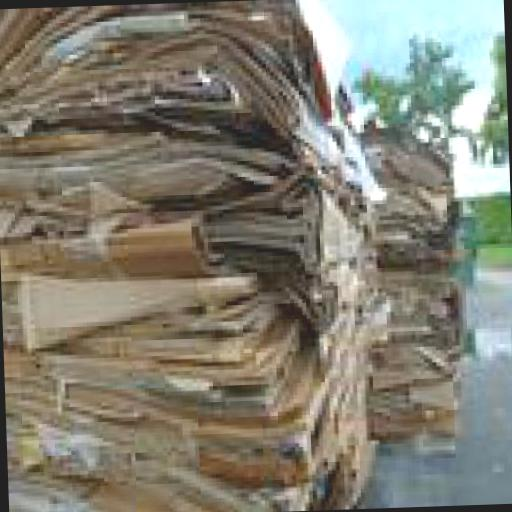cardboard: (0, 0, 392, 512), (0, 19, 377, 189), (8, 332, 380, 489), (0, 0, 358, 116), (364, 133, 474, 432), (6, 286, 313, 389), (10, 431, 389, 512), (4, 268, 262, 344), (0, 136, 286, 196), (206, 176, 372, 262), (2, 222, 208, 280), (368, 260, 467, 344), (371, 345, 466, 432), (368, 137, 458, 188), (450, 196, 484, 276)
